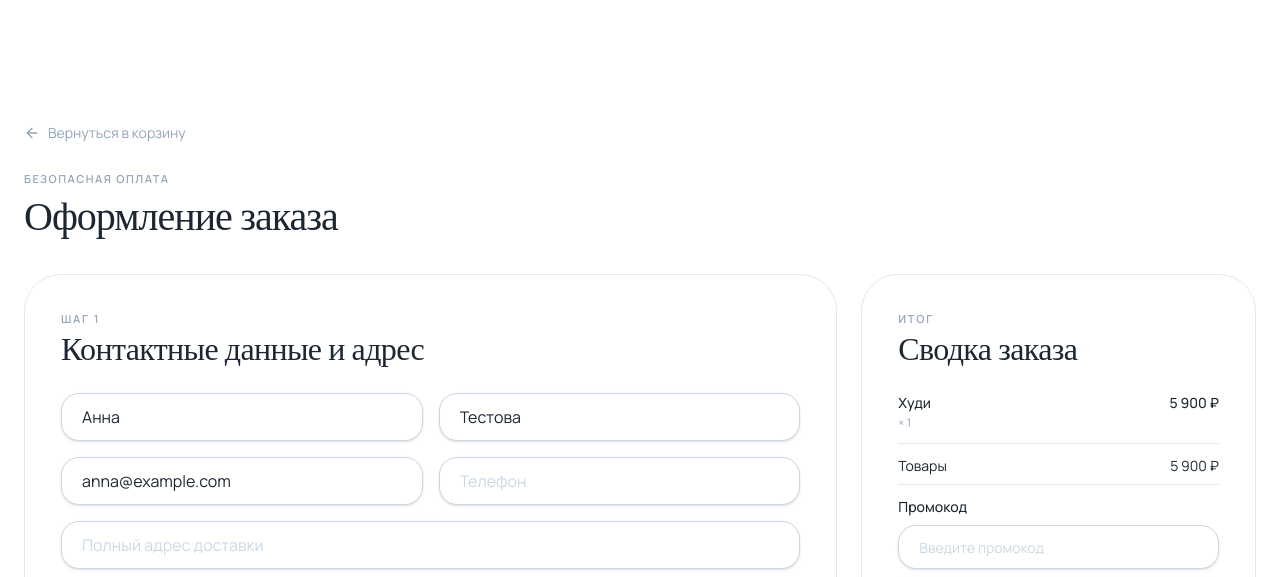
Scenario: Checkout — saved addresses › the server refuses the delivery details: its message is shown, no order is kept
The width and height of the screenshot is (1280, 577).
Type "+79990001122" into the field with placeholder "Телефон". click: [620, 481]
box: [439,457,800,505]
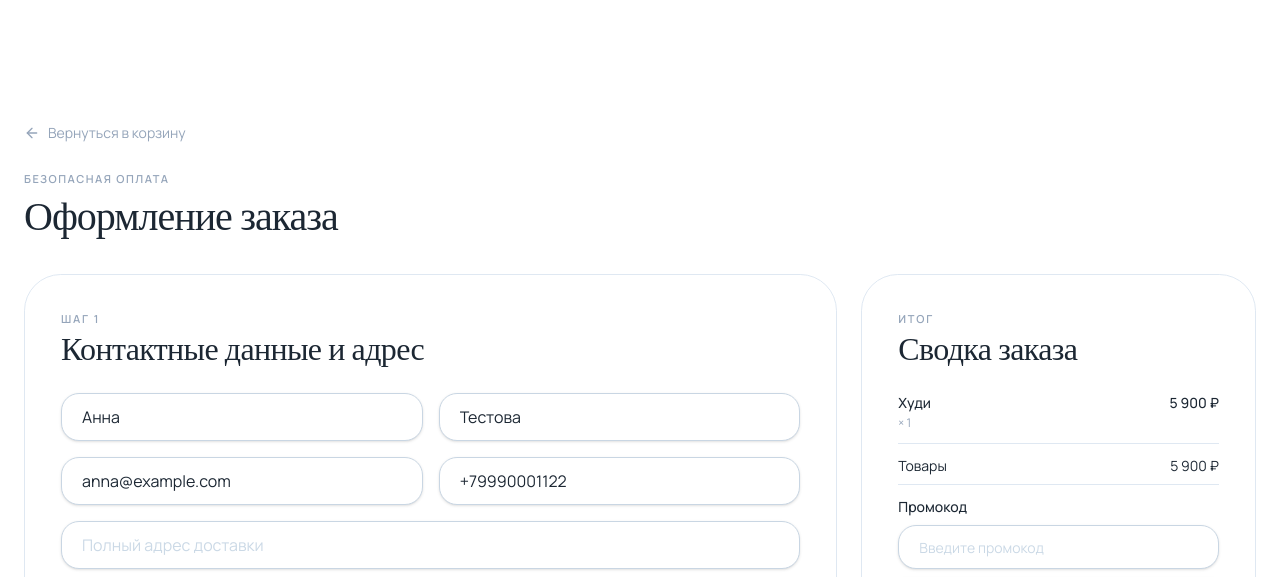
Type "Москва, Тверская 1" into the field with placeholder "Полный адрес доставки". click: [431, 545]
box: [61,521,800,569]
(page scrolled)
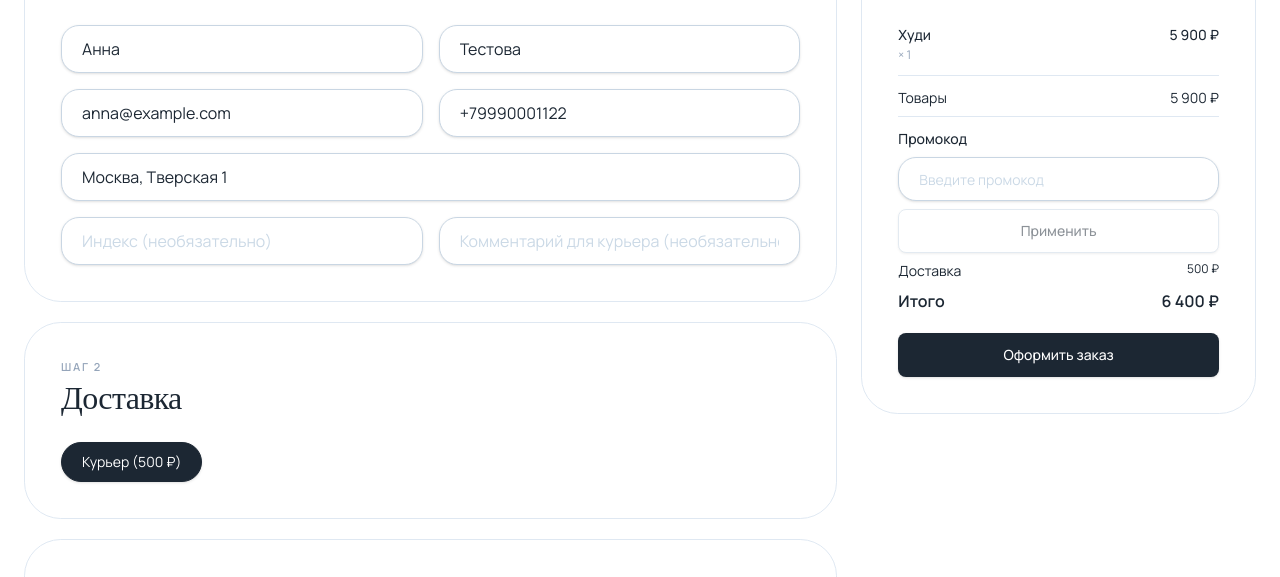
Expected: the button "Курьер (500 ₽)" is shown, [61,442,202,482]
Click the button "Оформить заказ". click: [1059, 355]
box: [898,333,1219,377]
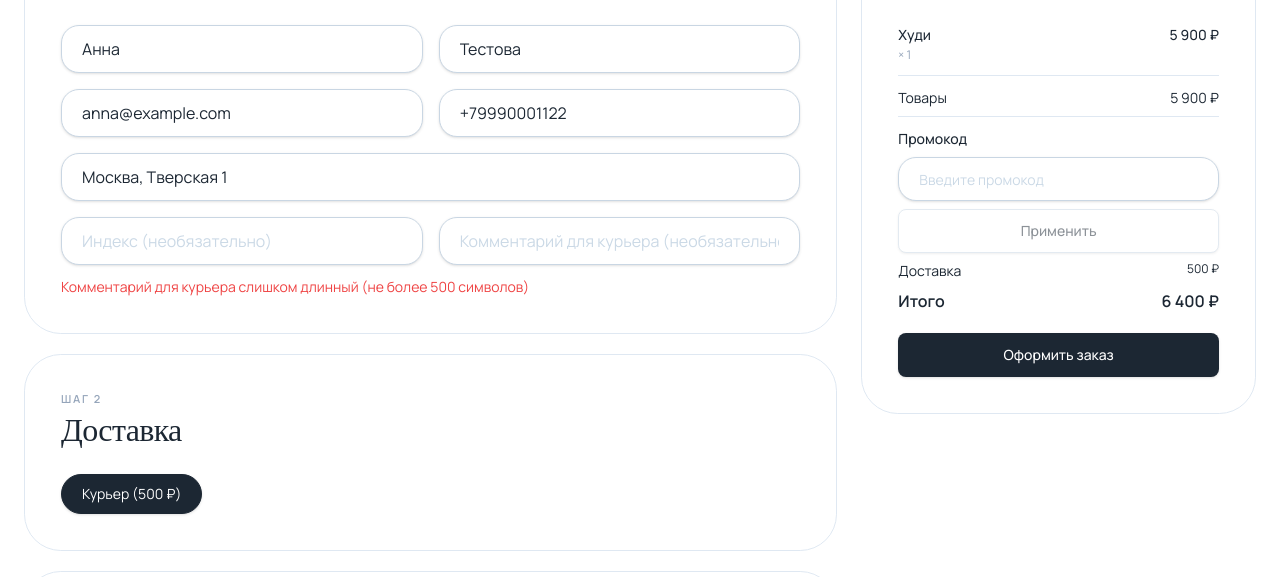
Expected: the message shows "слишком длинный", [61,277,529,296]
